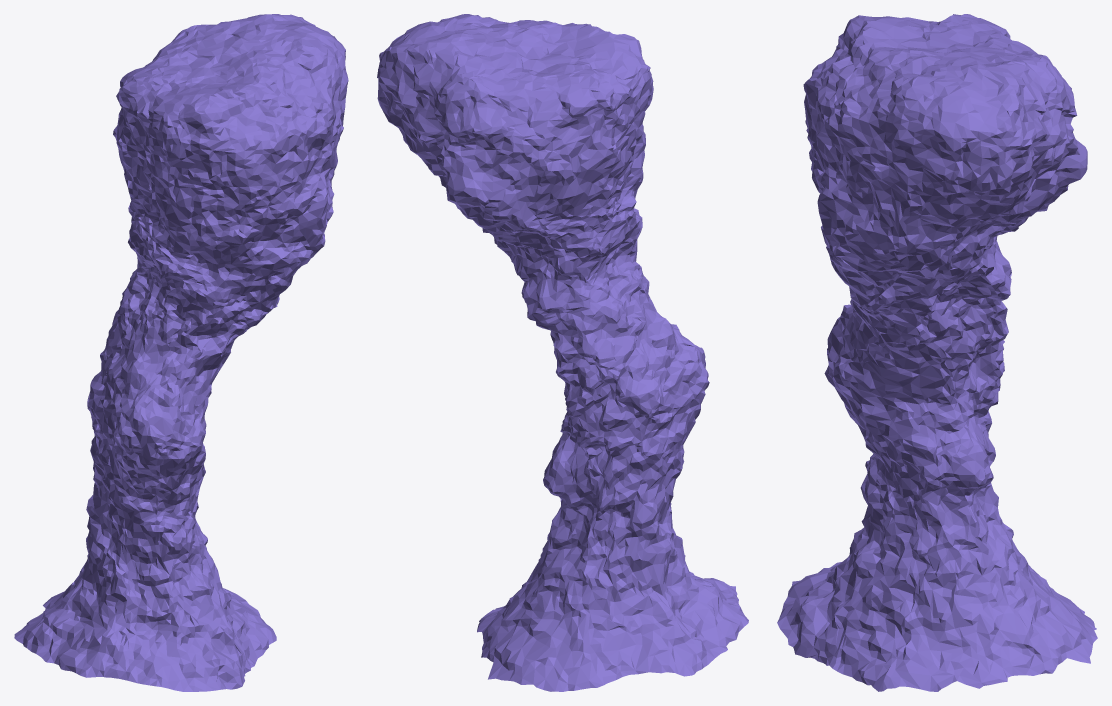
File: pillar.fbx
3 renders of one model, left to right at view 1: azimuth 30°, elevation 25°; view 2: azimuth 150°, elevation 25°; view 3: azimuth 270°, elevation 25°, orthographic. The views are drawn at different scales.
Visible parts, largest first — view 1: PILLAR.001, PILLAR.009, PILLAR.002, PILLAR.004, PILLAR.003, PILLAR.008, PILLAR.005, PILLAR.006, PILLAR.007; view 2: PILLAR.001, PILLAR.009, PILLAR.002, PILLAR.008, PILLAR.004, PILLAR.007, PILLAR.005, PILLAR.006, PILLAR.003; view 3: PILLAR.001, PILLAR.009, PILLAR.002, PILLAR.008, PILLAR.006, PILLAR.007, PILLAR.005, PILLAR.004, PILLAR.003.
Boxes of the visible parts, x1,y1,x2,y2 form: PILLAR.001: [116, 14, 348, 186]; PILLAR.009: [14, 560, 276, 691]; PILLAR.002: [113, 119, 343, 246]; PILLAR.004: [114, 257, 292, 362]; PILLAR.003: [128, 203, 333, 296]; PILLAR.008: [83, 500, 213, 602]; PILLAR.005: [90, 316, 234, 428]; PILLAR.006: [87, 385, 211, 478]; PILLAR.007: [86, 446, 205, 535]; PILLAR.001: [377, 14, 653, 171]; PILLAR.009: [477, 549, 748, 691]; PILLAR.002: [383, 111, 645, 229]; PILLAR.008: [540, 498, 685, 592]; PILLAR.004: [504, 240, 665, 347]; PILLAR.007: [543, 421, 695, 523]; PILLAR.005: [550, 319, 704, 399]; PILLAR.006: [560, 352, 709, 457]; PILLAR.003: [459, 173, 643, 275]; PILLAR.001: [803, 14, 1077, 193]; PILLAR.009: [777, 539, 1097, 691]; PILLAR.002: [805, 111, 1087, 246]; PILLAR.008: [853, 470, 1014, 577]; PILLAR.006: [824, 332, 1004, 432]; PILLAR.007: [841, 399, 995, 503]; PILLAR.005: [831, 301, 1008, 369]; PILLAR.004: [835, 236, 1011, 322]; PILLAR.003: [819, 200, 1053, 283].
Bounding box in the file's own units: 15.96 × 28.13 × 12.67.
